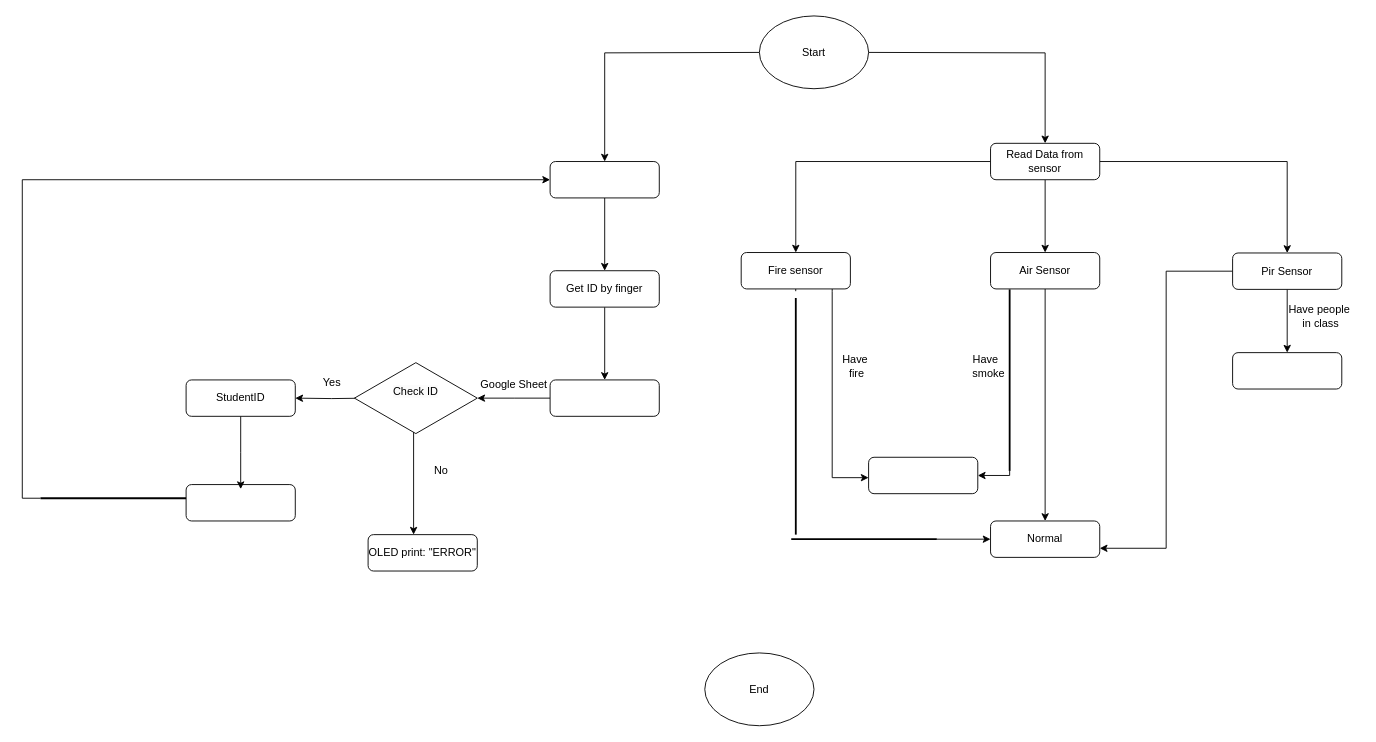
Image size: 1376x742. Some labels were removed from this diagram. The centre of each missing label's shape, as x and y in pixels:
Alarm and led on Warning!!: the point at 923,475
ESP 8266: the point at 604,397
Place finger: the point at 604,179
Post student ID, Name Date/time: the point at 240,502
Turn on the led, air condition: the point at 1287,370
